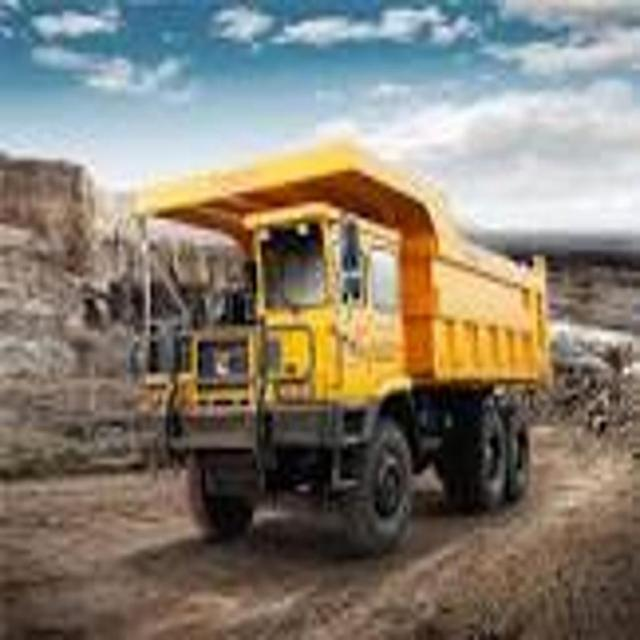dump_truck: (128, 122, 554, 576)
